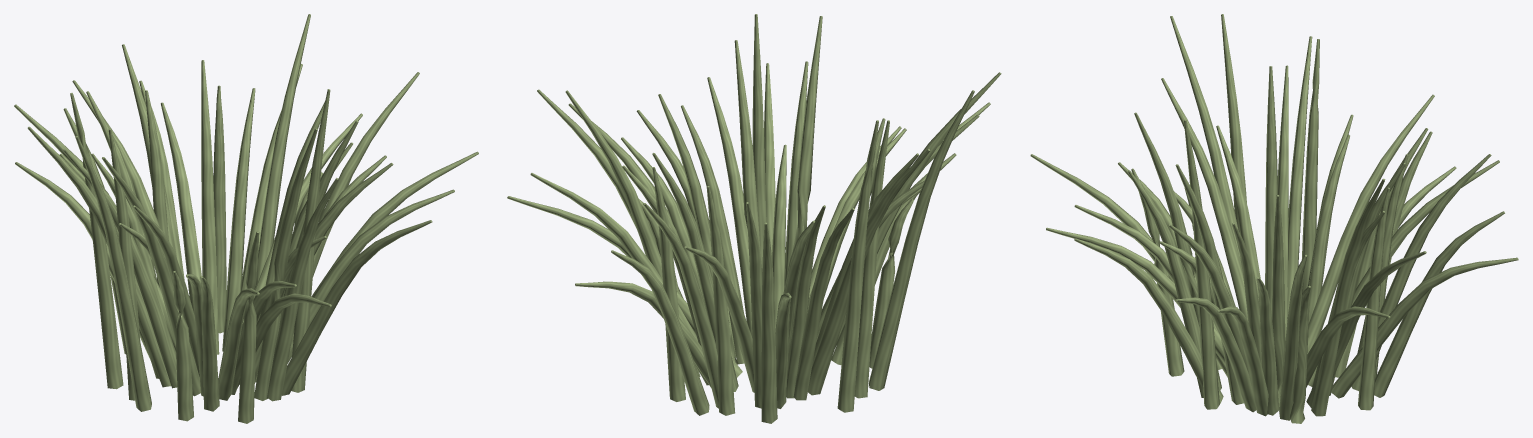
File: exotic-wildlife-hd-green-grass-clump-ea7fae55.glb
3 views of the same model, side by side, from view 1: azimuth 30°, elevation 25°; view 2: azimuth 150°, elevation 25°; view 3: azimuth 270°, elevation 25° (orthographic). The views are drawn at different scales.
Visible parts, largest first — view 1: green-grass-clump; view 2: green-grass-clump; view 3: green-grass-clump.
Part boxes in pixels (x1,y1,x2,y2): green-grass-clump: (14,14,478,423); green-grass-clump: (507,14,1001,423); green-grass-clump: (1030,14,1518,423).
Size of the model in its own units: 1.2 by 0.8823 by 1.3.
1 material, 1 textured.
